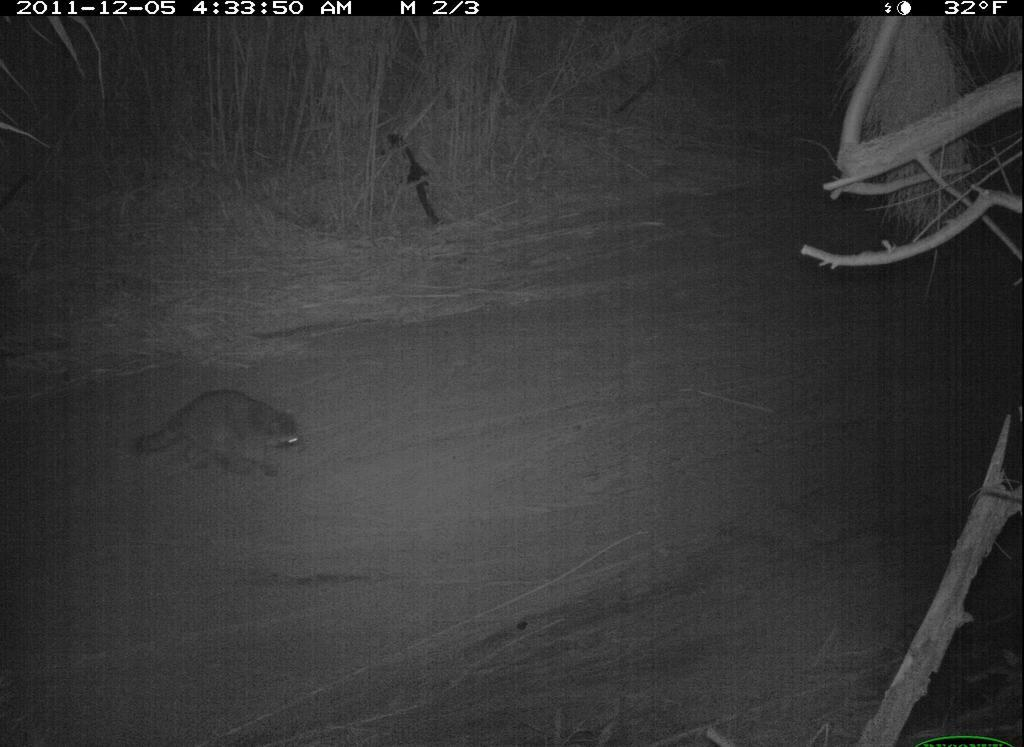raccoon: (117, 379, 329, 483)
